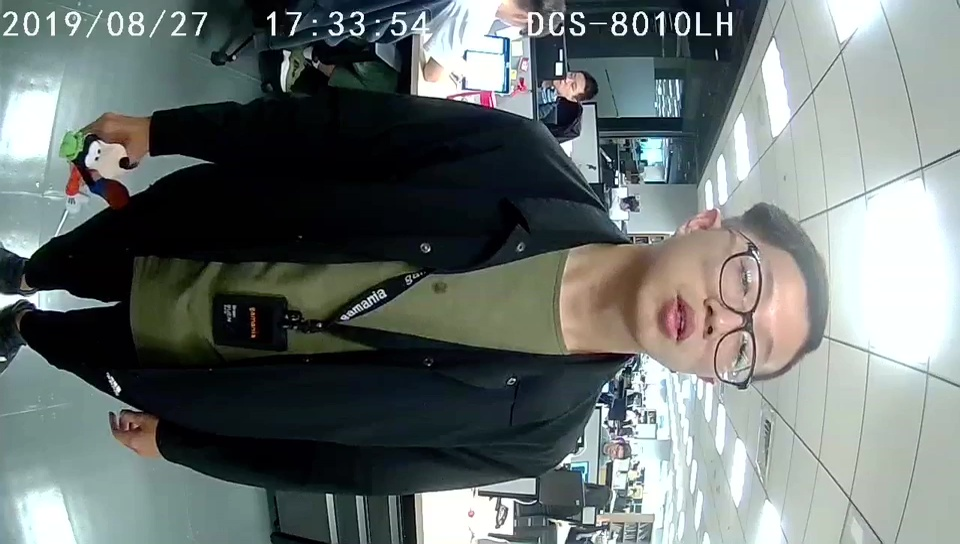goofy: (58, 129, 131, 216)
